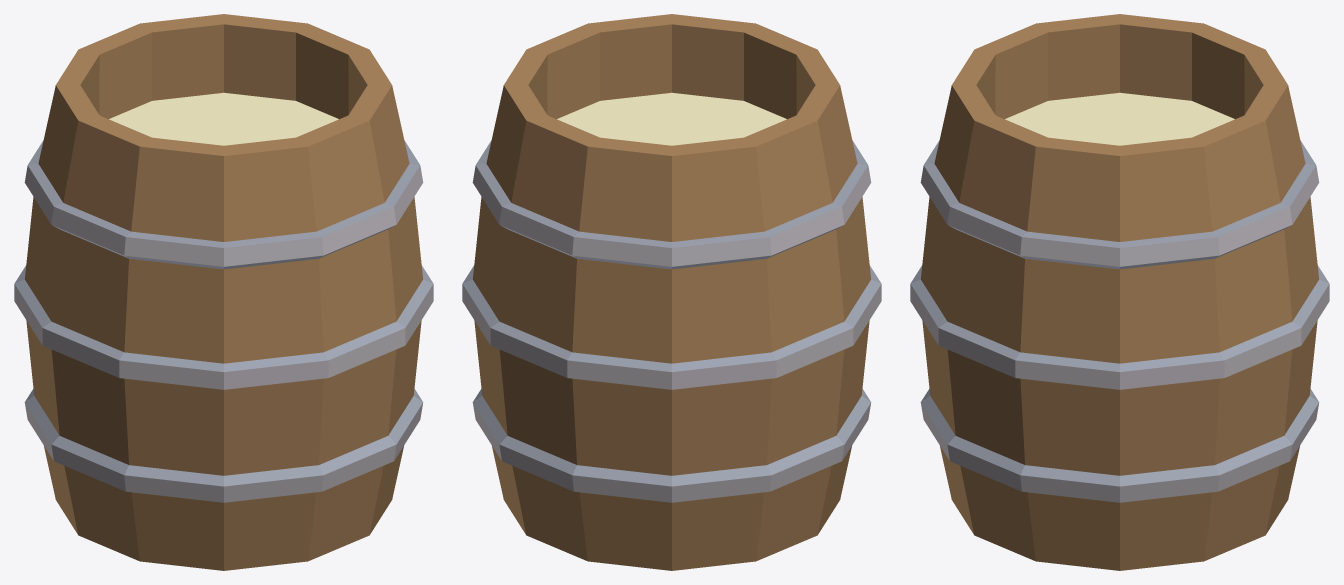
Rendered from barrel_milk.fbx.
3 views of the same model, side by side, from view 1: azimuth 30°, elevation 25°; view 2: azimuth 150°, elevation 25°; view 3: azimuth 270°, elevation 25° (orthographic).
Parts seen in each view (by area): view 1: barrel_milk; view 2: barrel_milk; view 3: barrel_milk.
Part boxes in pixels (box(x1,y1,x2,y2)): barrel_milk: box(14, 14, 433, 570); barrel_milk: box(462, 14, 881, 570); barrel_milk: box(910, 14, 1329, 570).
Size of the model in its own units: 380 by 415 by 380.
